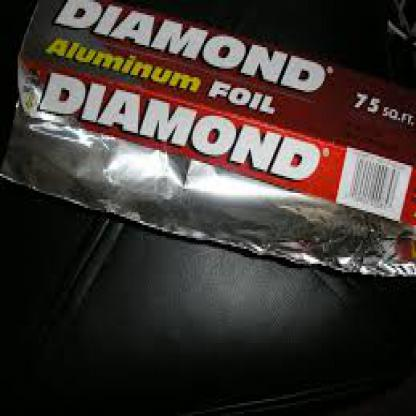Compsot: (0, 100, 415, 275)
